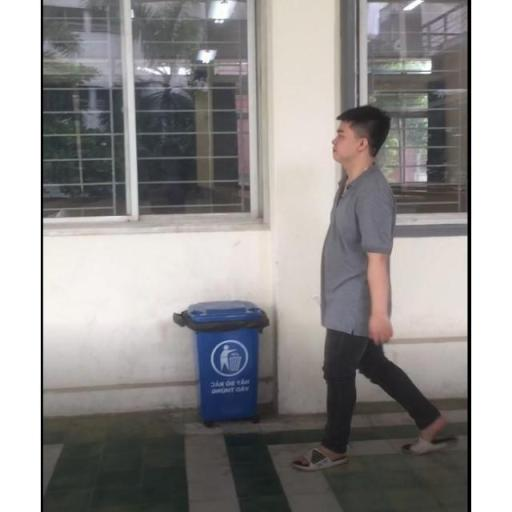Running: (282, 102, 456, 478)
